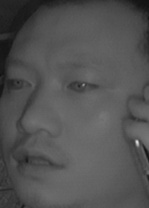eye: (66, 75, 100, 96), (7, 72, 33, 93)
mouth: (10, 144, 70, 182)
